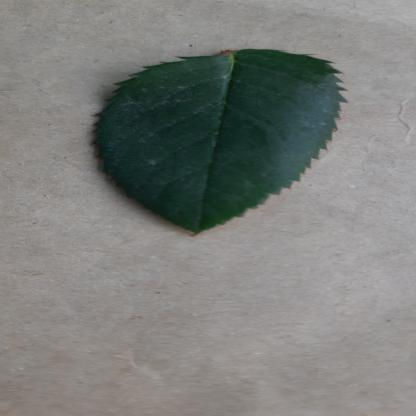normal: (92, 48, 351, 236)
